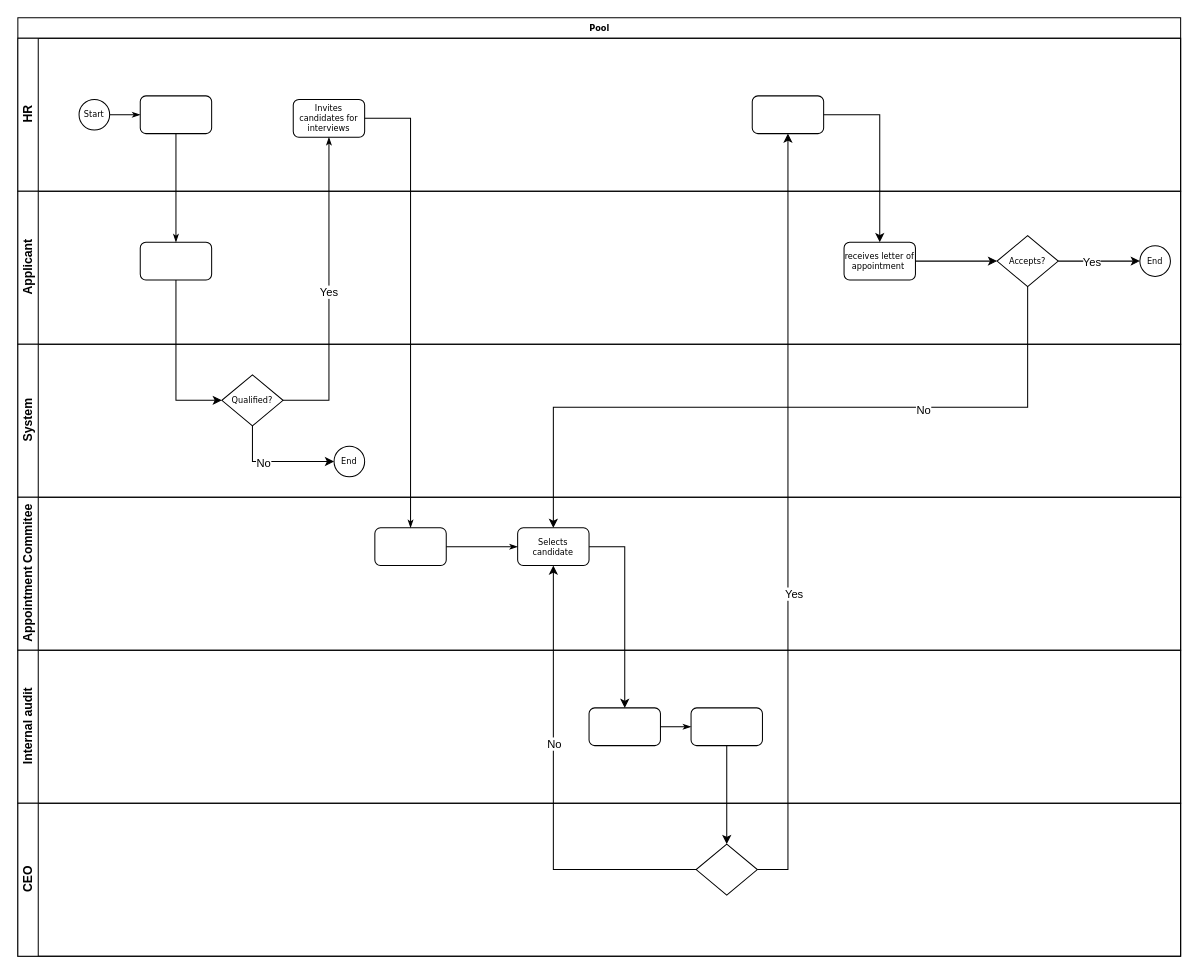
This 1199x974 diagram has some shape labels left out. The shapes that lost their labels are listed below. From the top down, each one's centre as x and y in pixels, then its label:
At (x=175, y=114): "Create job ad".
At (x=787, y=114): "Conveys approval to candidate".
At (x=175, y=260): "Applies".
At (x=410, y=546): "Conducts interview".
At (x=624, y=726): "Reviews selection".
At (x=726, y=726): "Submits for approval".
At (x=726, y=869): "Approved?".
